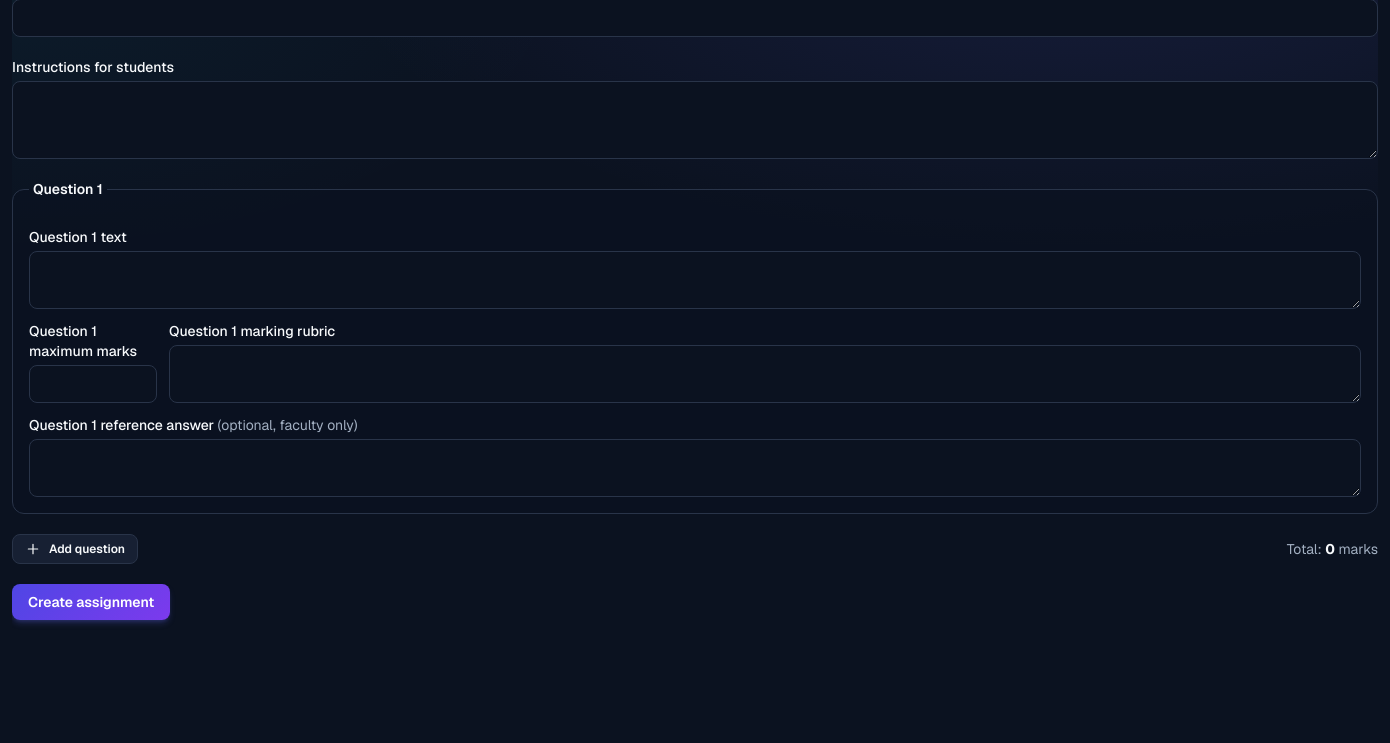
Test: AssignmentForm › adds and removes questions, keeps at least one, and totals the marks
Check: the button "Remove question" is not shown
Type "5" into the field labelled "Question 1 maximum marks".
click(93, 384); type("5")  # box [29,365,157,403]
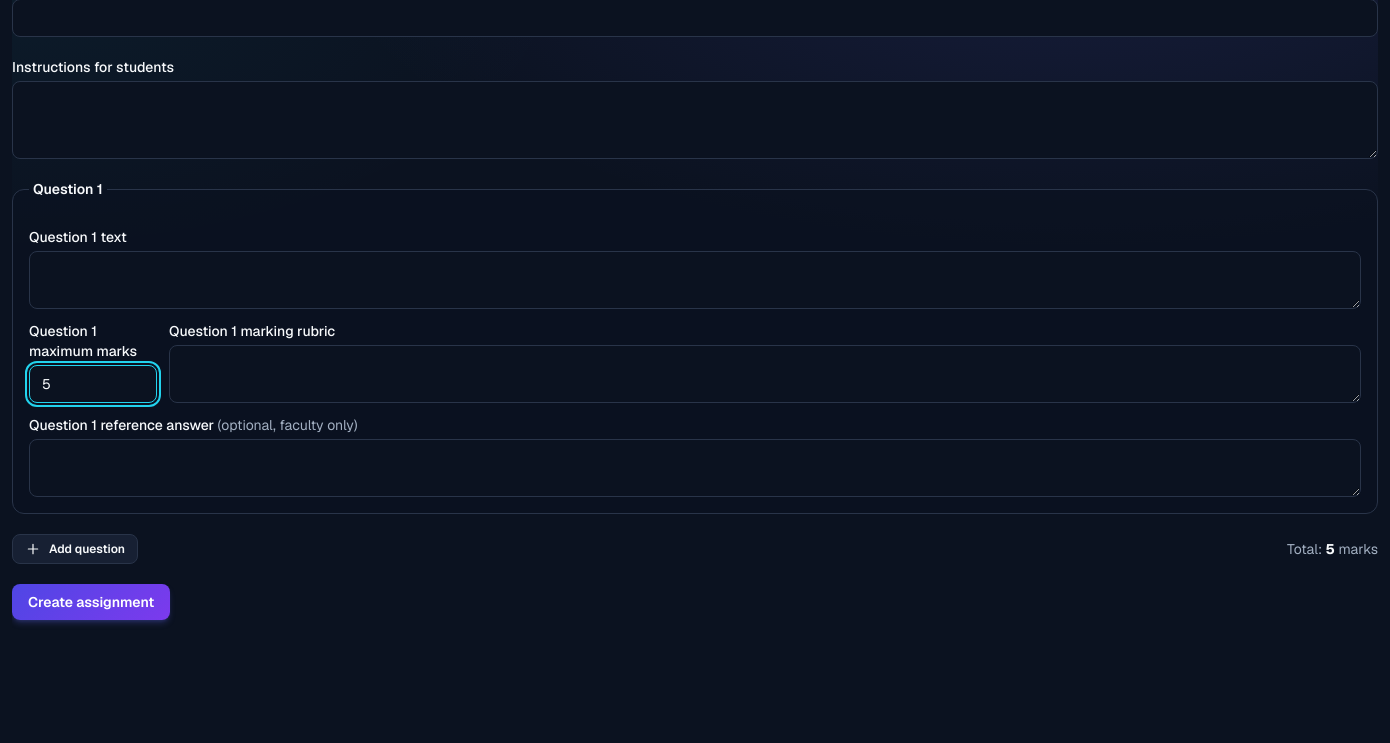
Click the button "Add question".
click(75, 549)  # box [12,534,138,564]
(page scrolled)
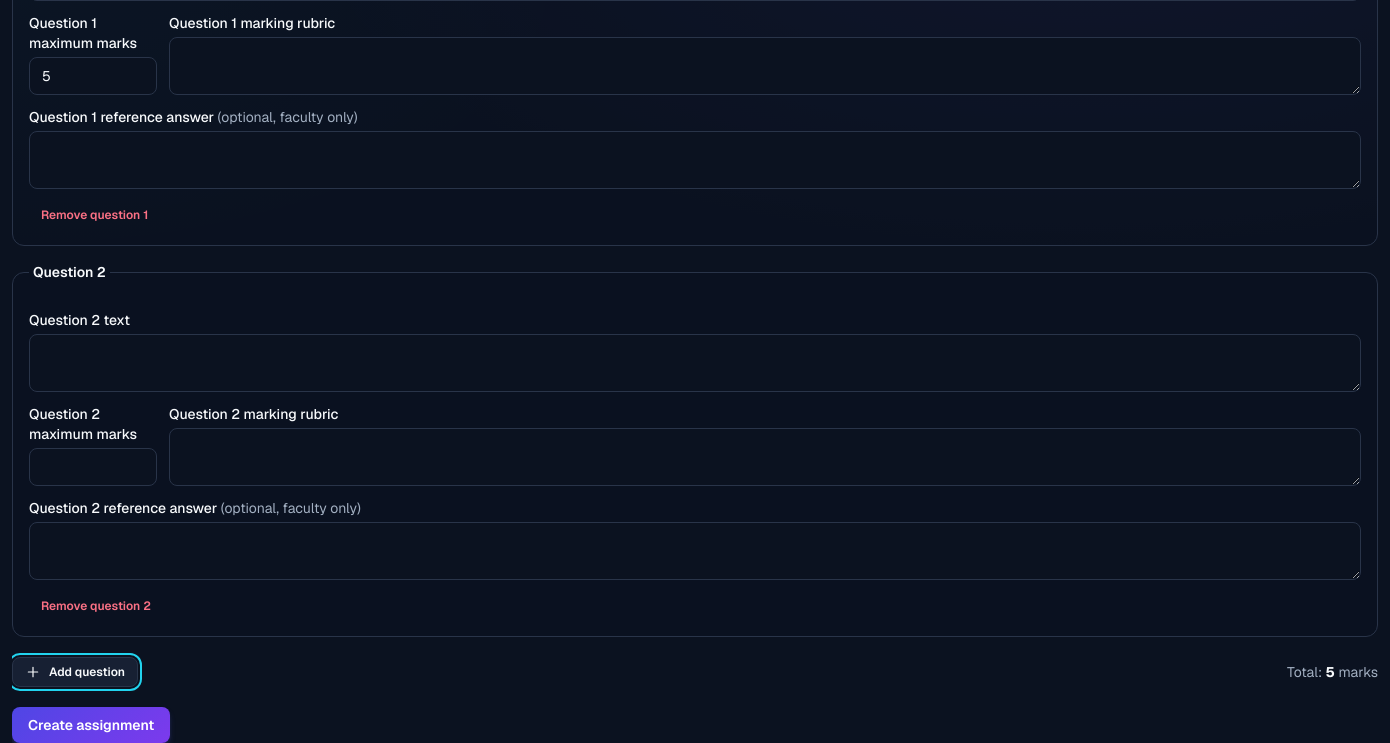
Type "2.5" into the field labelled "Question 2 maximum marks".
click(93, 467); type("2.5")  # box [29,448,157,486]
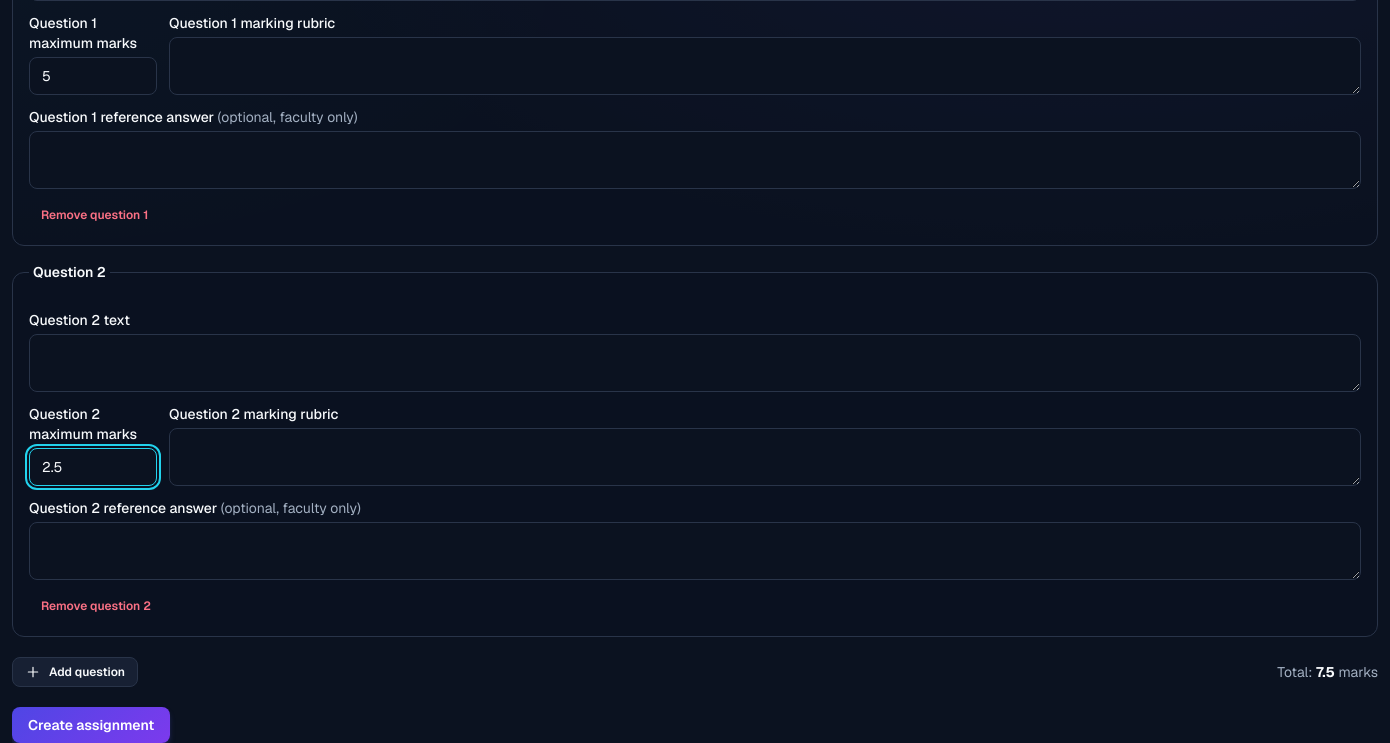
Check: the text "Total: 7.5 marks" is shown, box [1277,662,1378,682]
Click the button "Remove question 1".
click(95, 215)  # box [29,201,160,229]
(page scrolled)
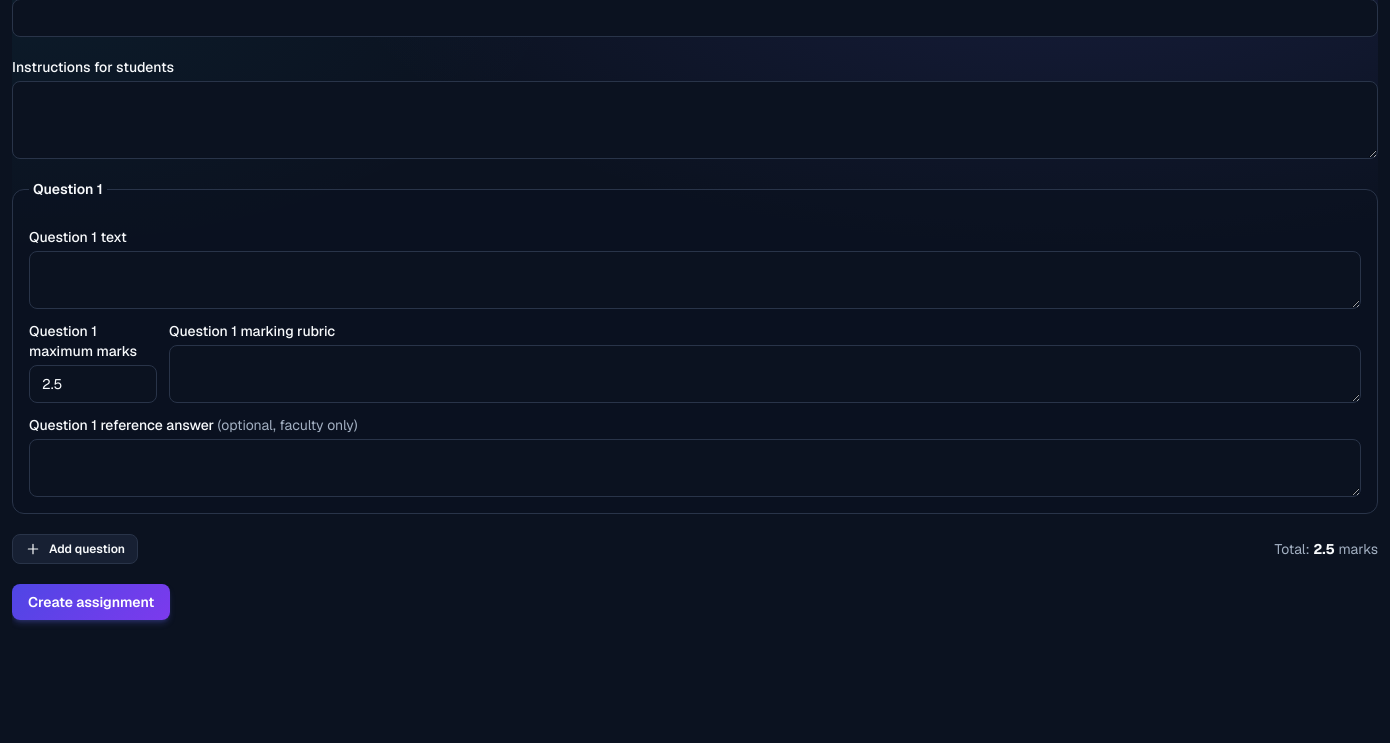
Check: the text "Total: 2.5 marks" is shown, box [1275,539,1378,559]
